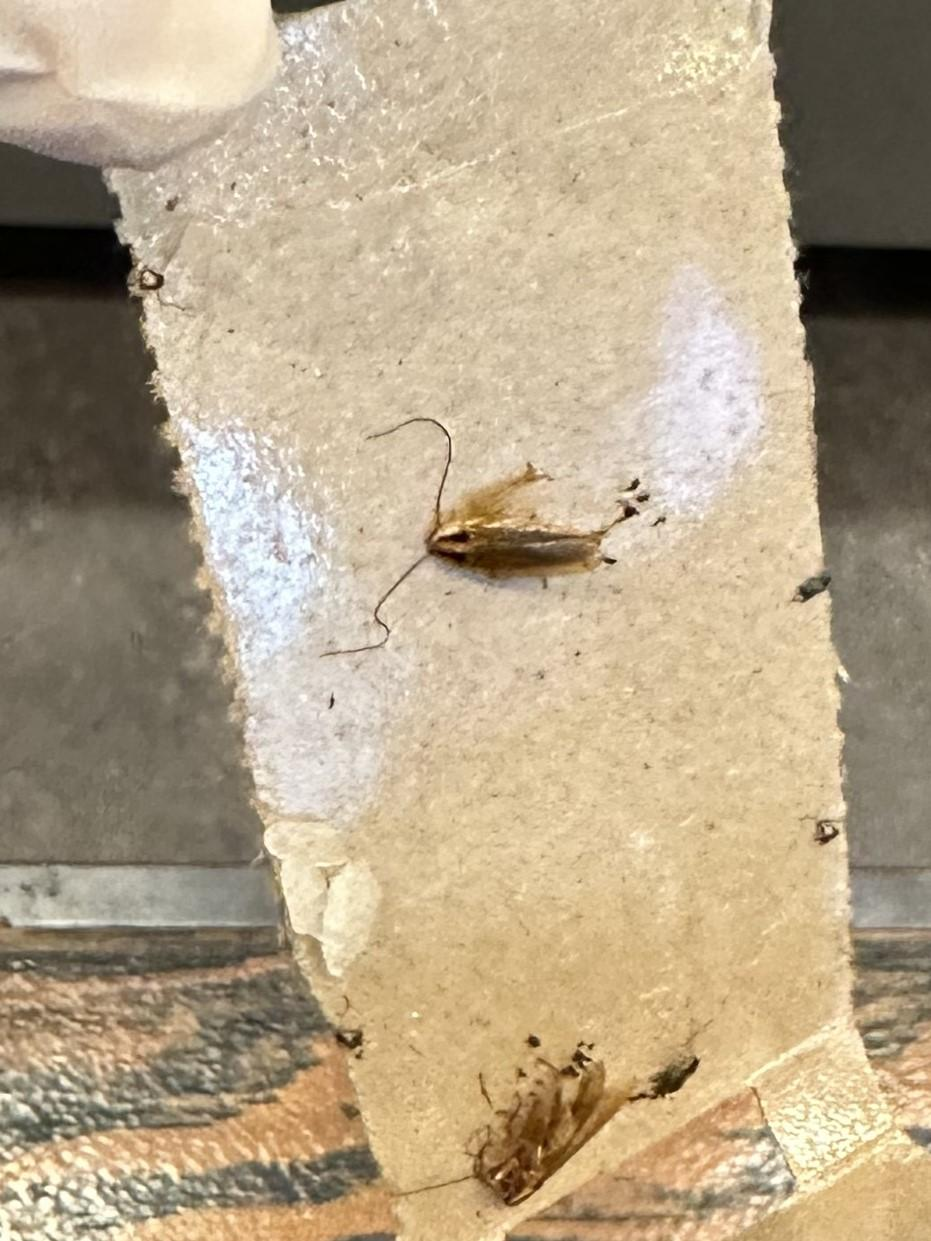cockroach: (306, 356, 662, 705), (918, 393, 922, 396)
